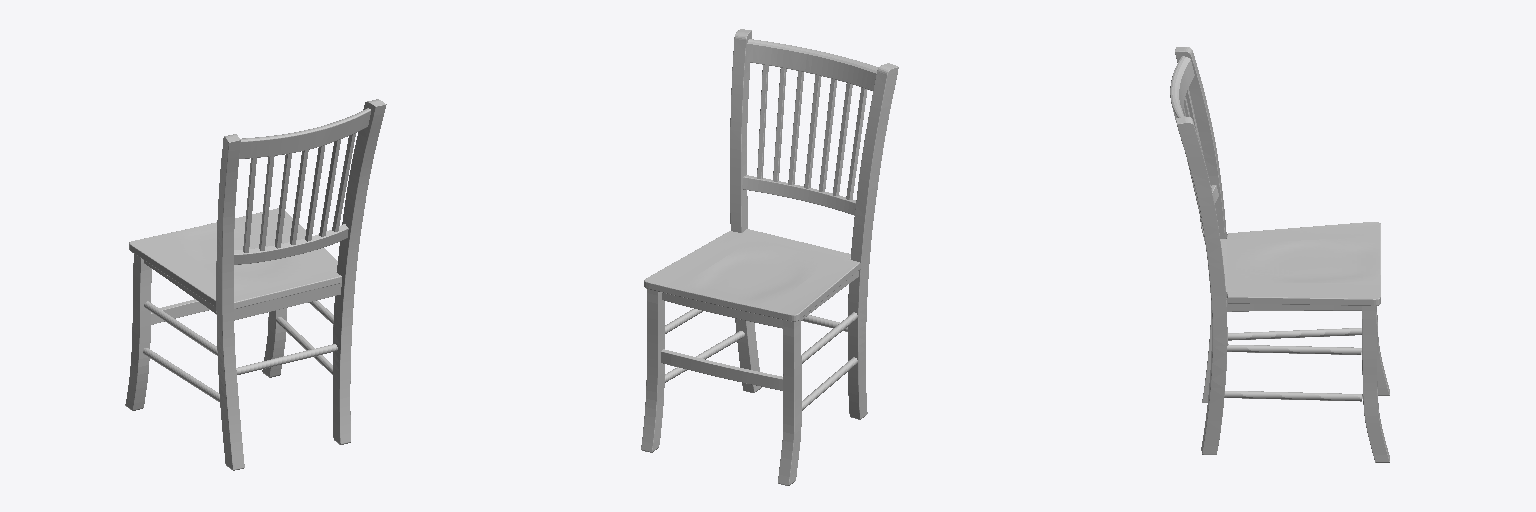
Rendered from CtrlArt_ChairMDL_Free.obj.
3 views of the same model, side by side, from view 1: azimuth 30°, elevation 25°; view 2: azimuth 150°, elevation 25°; view 3: azimuth 270°, elevation 25° (orthographic).
Visible parts, largest first — view 1: Ctrlart_ChairMDL Chair_21, Ctrlart_ChairMDL Chair_15, Ctrlart_ChairMDL Chair_14, Ctrlart_ChairMDL Chair_22, Ctrlart_ChairMDL Chair_16, Ctrlart_ChairMDL Chair_24, Ctrlart_ChairMDL Chair_20, Ctrlart_ChairMDL Chair_17, Chair_01 Ctrlart_ChairMDL, Ctrlart_ChairMDL Chair_05, Ctrlart_ChairMDL Chair_04, Ctrlart_ChairMDL Chair_12 (+7 smaller); view 2: Ctrlart_ChairMDL Chair_21, Ctrlart_ChairMDL Chair_14, Ctrlart_ChairMDL Chair_15, Ctrlart_ChairMDL Chair_16, Ctrlart_ChairMDL Chair_22, Ctrlart_ChairMDL Chair_17, Ctrlart_ChairMDL Chair_23, Ctrlart_ChairMDL Chair_24, Ctrlart_ChairMDL Chair_18, Ctrlart_ChairMDL Chair_06, Ctrlart_ChairMDL Chair_07, Ctrlart_ChairMDL Chair_08 (+7 smaller); view 3: Ctrlart_ChairMDL Chair_21, Ctrlart_ChairMDL Chair_15, Ctrlart_ChairMDL Chair_14, Ctrlart_ChairMDL Chair_17, Ctrlart_ChairMDL Chair_03, Ctrlart_ChairMDL Chair_02, Ctrlart_ChairMDL Chair_05, Ctrlart_ChairMDL Chair_16, Ctrlart_ChairMDL Chair_25.
Boxes of the visible parts, x1,y1,x2,y2 form: Ctrlart_ChairMDL Chair_21: [129, 208, 341, 308]; Ctrlart_ChairMDL Chair_15: [333, 99, 386, 444]; Ctrlart_ChairMDL Chair_14: [216, 134, 244, 470]; Ctrlart_ChairMDL Chair_22: [125, 254, 151, 410]; Ctrlart_ChairMDL Chair_16: [239, 108, 370, 158]; Ctrlart_ChairMDL Chair_24: [234, 224, 348, 264]; Ctrlart_ChairMDL Chair_20: [234, 283, 341, 320]; Ctrlart_ChairMDL Chair_17: [262, 308, 286, 377]; Chair_01 Ctrlart_ChairMDL: [236, 344, 337, 374]; Ctrlart_ChairMDL Chair_05: [143, 348, 219, 401]; Ctrlart_ChairMDL Chair_04: [144, 301, 217, 355]; Ctrlart_ChairMDL Chair_12: [332, 133, 355, 231]; Ctrlart_ChairMDL Chair_21: [644, 229, 860, 321]; Ctrlart_ChairMDL Chair_14: [848, 63, 898, 419]; Ctrlart_ChairMDL Chair_15: [730, 29, 761, 392]; Ctrlart_ChairMDL Chair_16: [747, 39, 878, 90]; Ctrlart_ChairMDL Chair_22: [778, 319, 801, 485]; Ctrlart_ChairMDL Chair_17: [641, 289, 664, 452]; Ctrlart_ChairMDL Chair_23: [661, 349, 782, 390]; Ctrlart_ChairMDL Chair_24: [742, 175, 855, 215]; Ctrlart_ChairMDL Chair_18: [662, 293, 782, 328]; Ctrlart_ChairMDL Chair_06: [846, 87, 866, 199]; Ctrlart_ChairMDL Chair_07: [833, 83, 852, 195]; Ctrlart_ChairMDL Chair_08: [819, 79, 836, 191]; Ctrlart_ChairMDL Chair_21: [1220, 222, 1380, 305]; Ctrlart_ChairMDL Chair_15: [1176, 117, 1227, 454]; Ctrlart_ChairMDL Chair_14: [1175, 47, 1226, 402]; Ctrlart_ChairMDL Chair_17: [1362, 306, 1389, 462]; Ctrlart_ChairMDL Chair_03: [1224, 391, 1362, 401]; Ctrlart_ChairMDL Chair_02: [1227, 344, 1361, 354]; Ctrlart_ChairMDL Chair_05: [1228, 328, 1361, 340]; Ctrlart_ChairMDL Chair_16: [1170, 56, 1194, 122]; Ctrlart_ChairMDL Chair_25: [1226, 299, 1361, 311].
Bounding box in the file's own units: 44.91 × 93.41 × 54.04.